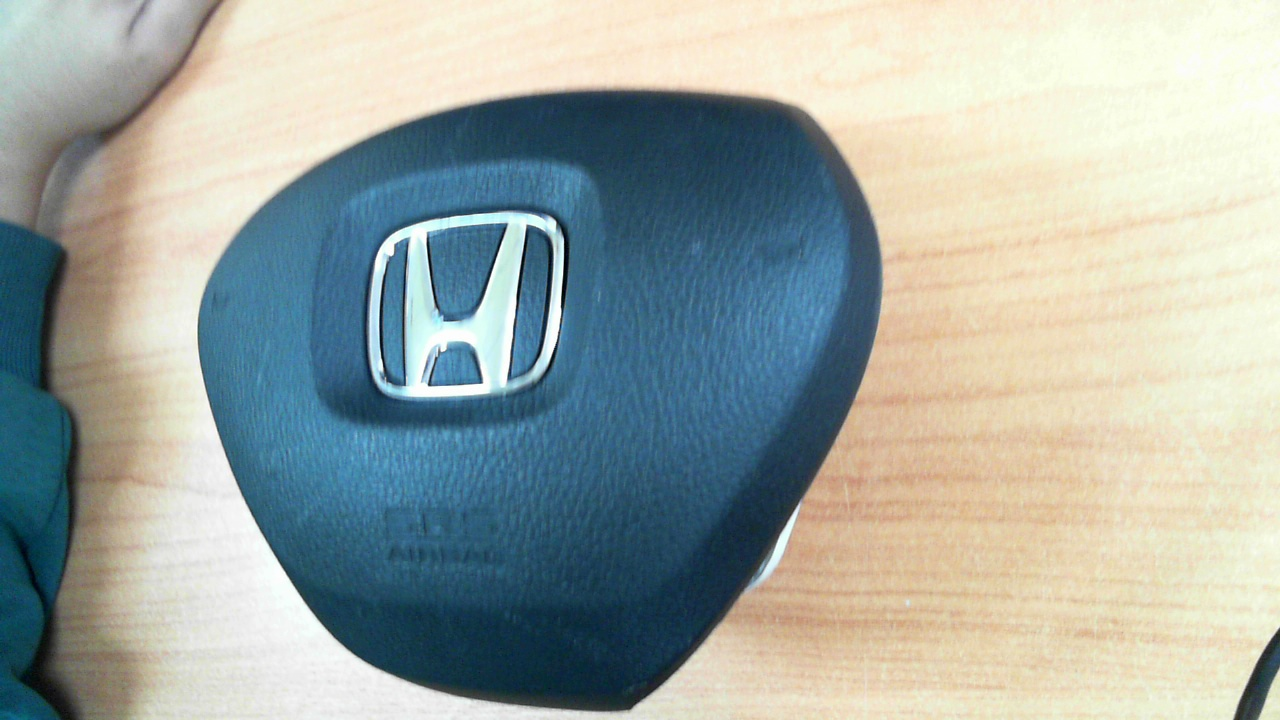Airbag: (196, 89, 883, 713)
Honda: (368, 210, 570, 399)
